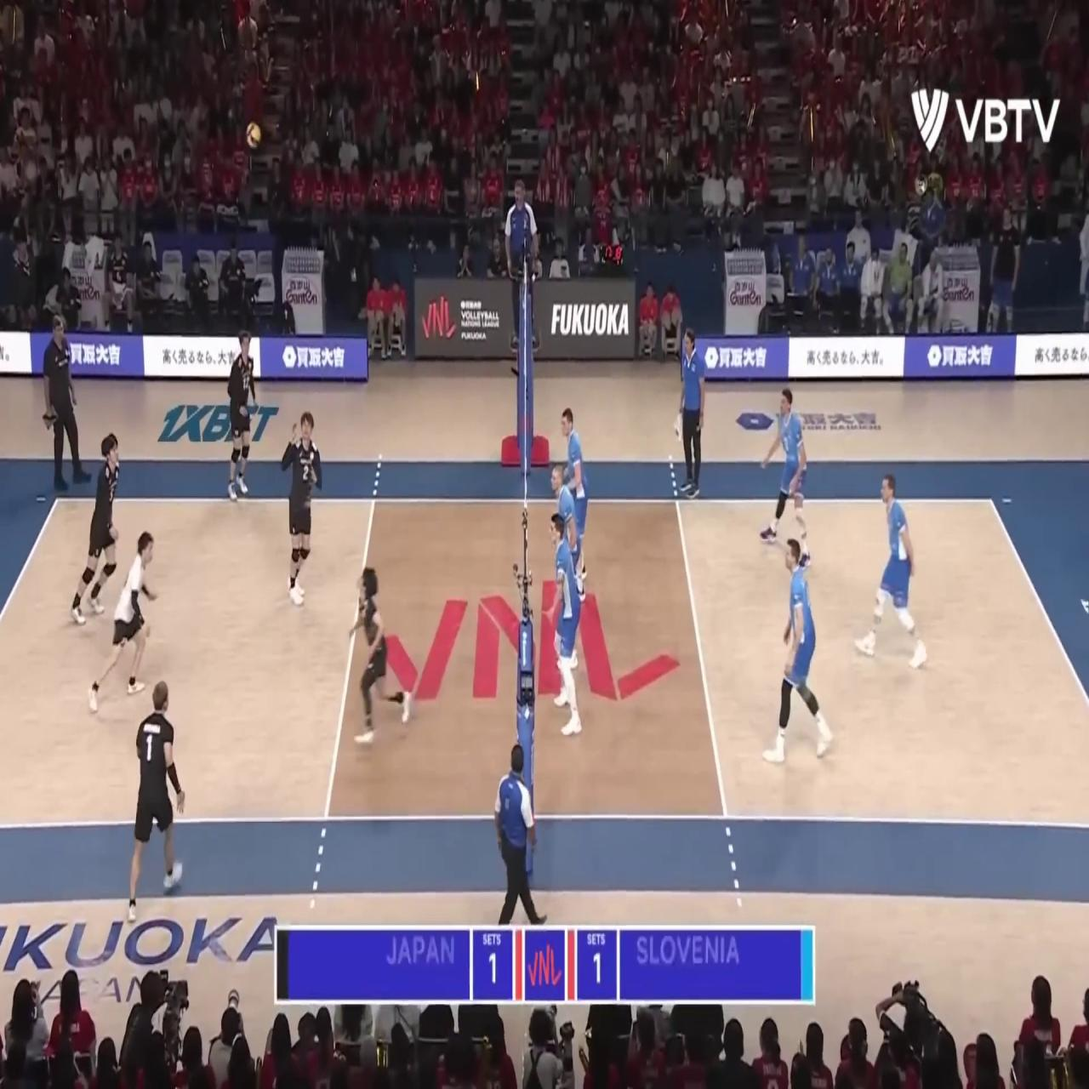ball: (247, 123, 261, 149)
